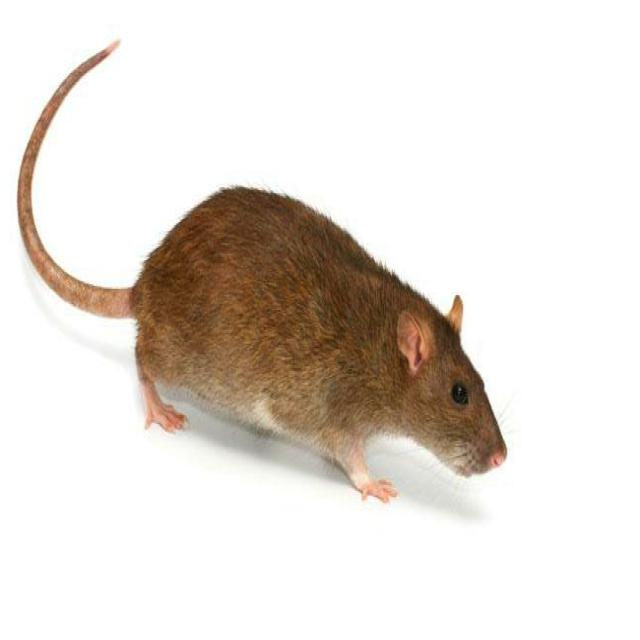rat: (18, 43, 507, 502)
